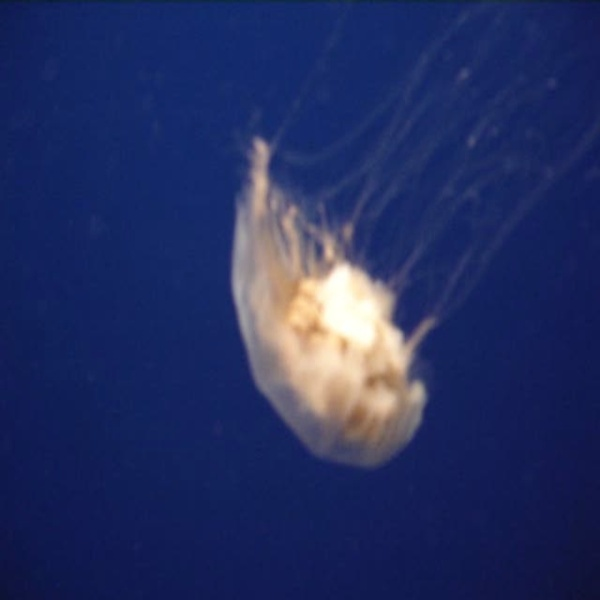Jellyfish: (229, 2, 597, 473)
